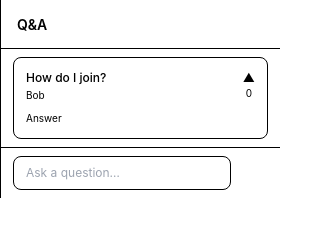
Test: clicking Answer expands inline answer input
Step 1. Click the button with test id "btn-expand-answer-q-1" → (140, 118), box [26,111,255,126]
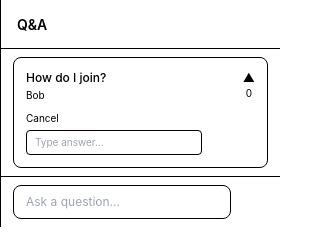
Result: the field with test id "answer-input-q-1" is shown at [26,130,202,155]
